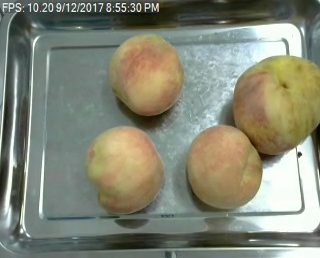Peach: (232, 53, 320, 155), (85, 125, 163, 214), (187, 123, 263, 209), (108, 33, 184, 114)
